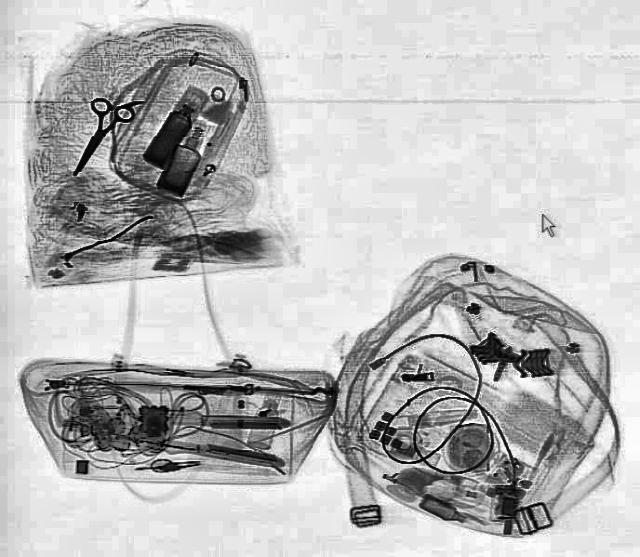Scissors: (50, 94, 138, 182)
